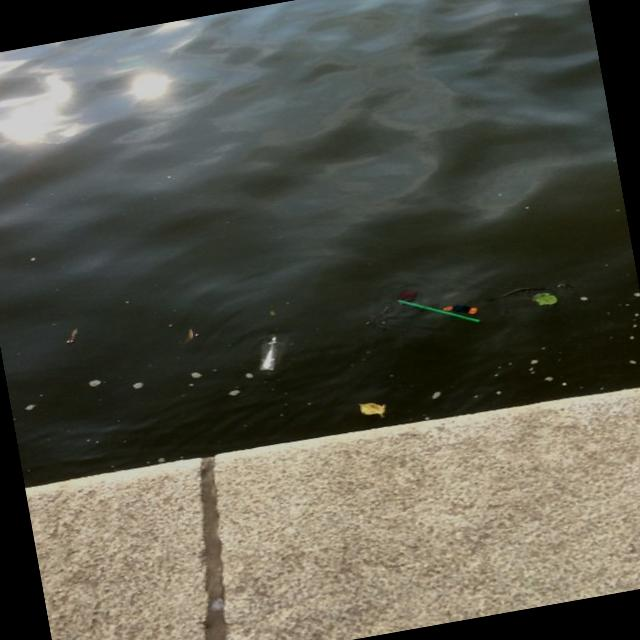Trash: (46, 225, 640, 470)
